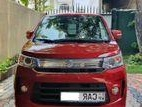car: (15, 13, 126, 107)
